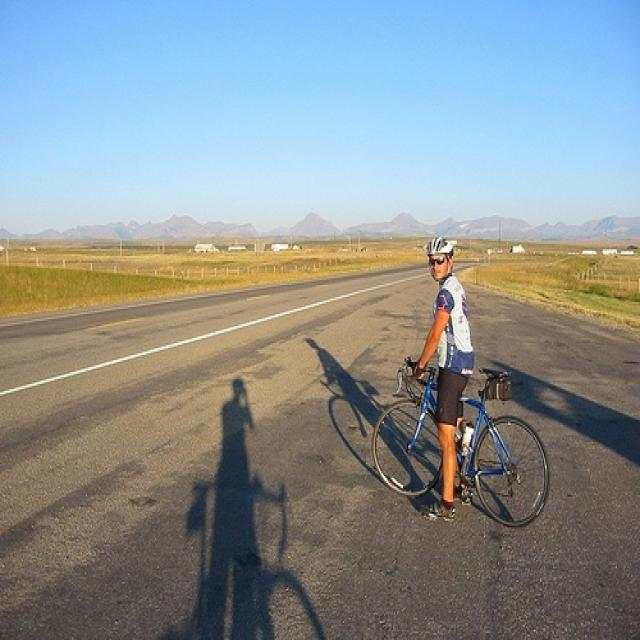bicycle: (371, 358, 548, 528)
